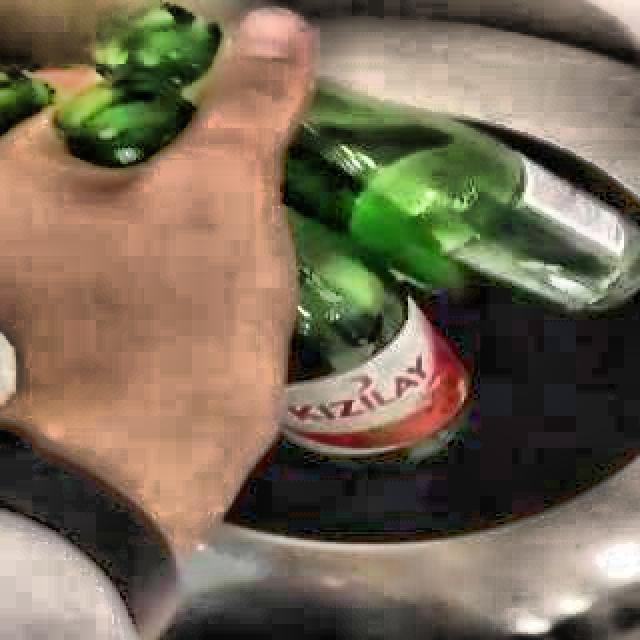glass: (280, 82, 640, 458), (51, 5, 221, 169), (0, 71, 53, 135)
